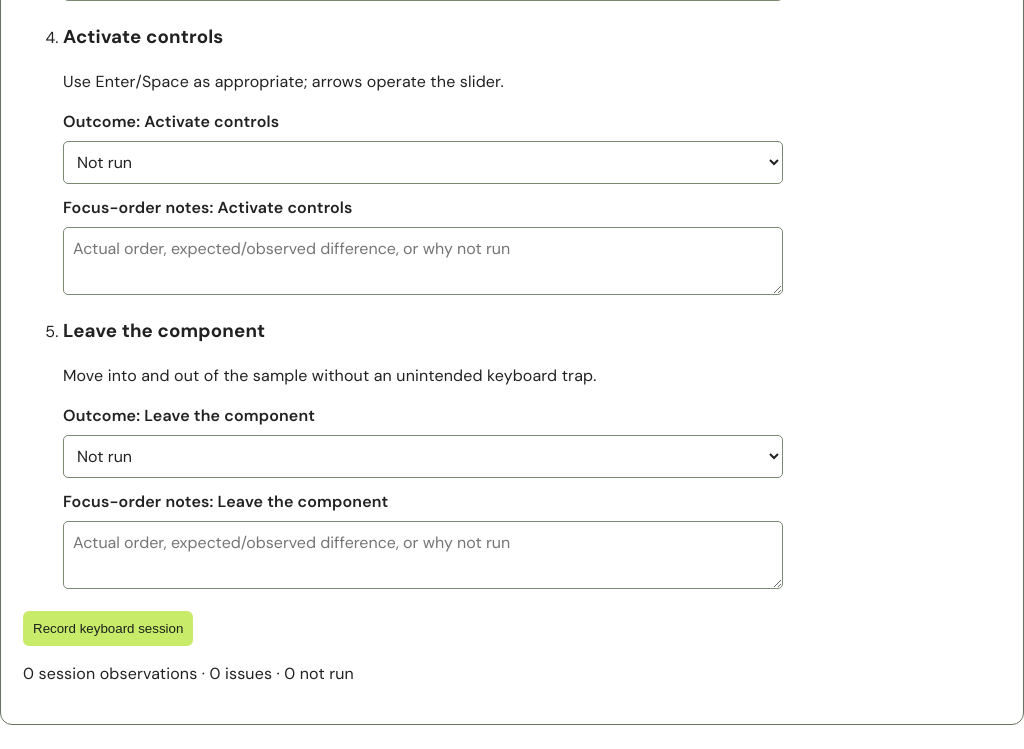
Test: keyboard observation checklist › starts untested and refuses empty evidence
(page scrolled)
Click the button "Record keyboard session".
click(108, 628)  # box x1=23 y1=610 x2=193 y2=646
(page scrolled)
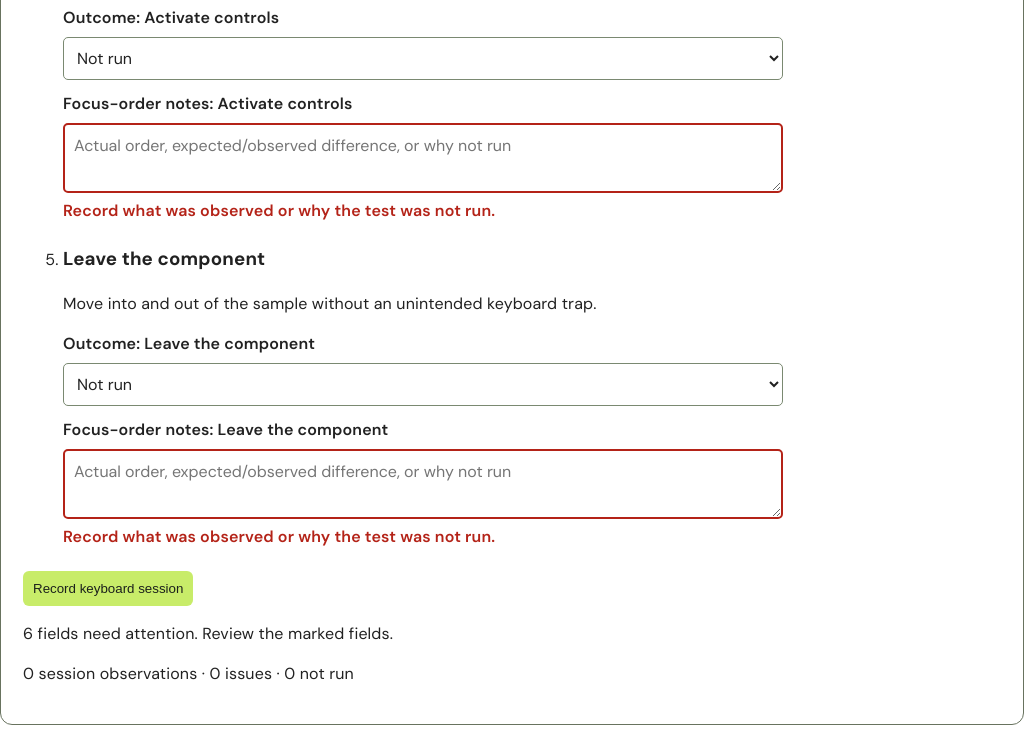
Check: the text "0 session observations · 0 issues · 0 not run" is shown, box x1=23 y1=662 x2=354 y2=684
Check: the message shows "6 fields need attention", box x1=23 y1=622 x2=393 y2=644
